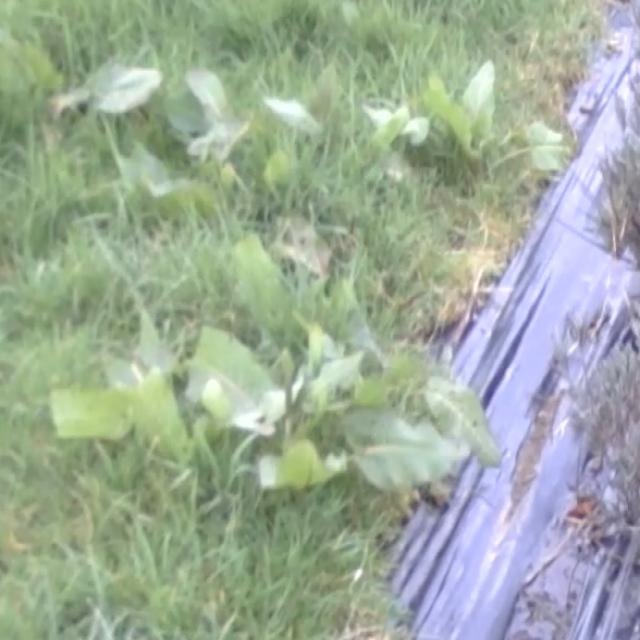organic waste: (58, 313, 528, 524), (388, 42, 579, 197), (162, 194, 346, 354), (142, 36, 288, 190), (74, 25, 202, 161), (85, 126, 243, 220), (244, 56, 345, 161), (344, 67, 435, 172)
